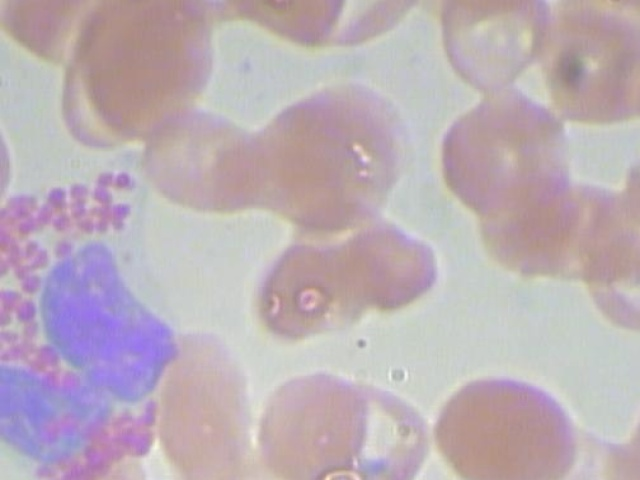RBC: (235, 74, 411, 232), (52, 0, 225, 128), (423, 89, 578, 226), (143, 325, 270, 480), (416, 370, 588, 480), (128, 101, 279, 216), (254, 362, 376, 480), (415, 0, 571, 90), (329, 206, 453, 316), (244, 232, 367, 342), (465, 161, 588, 270), (219, 0, 359, 51), (214, 444, 337, 480), (0, 63, 27, 215), (28, 455, 152, 480), (0, 0, 4, 87)
WBC: (0, 138, 182, 480)
